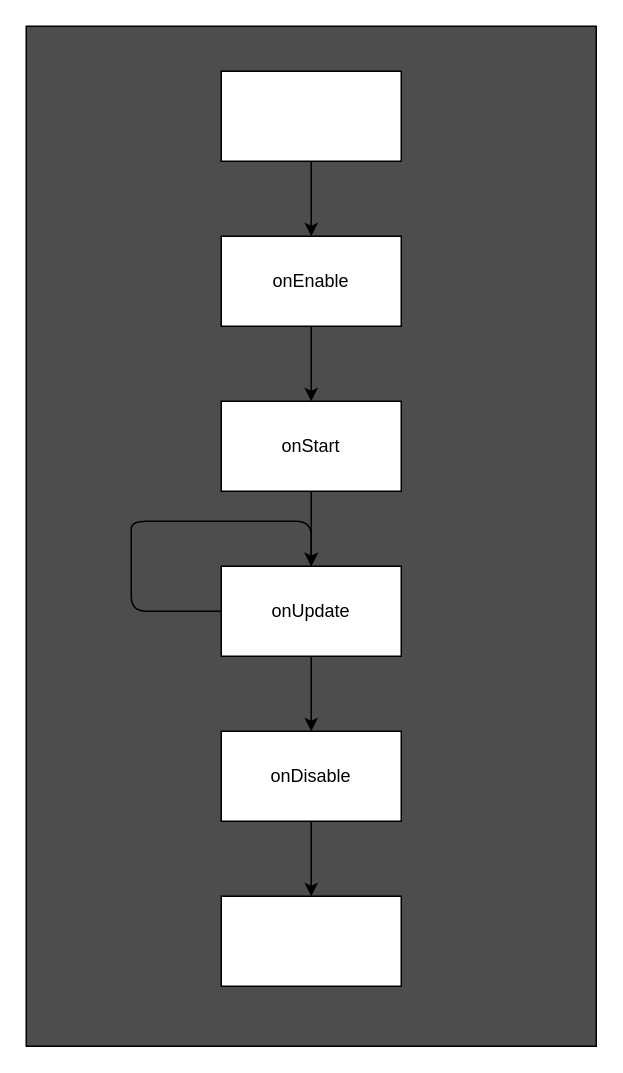
This 623x1073 diagram has some shape labels left out. The box of each missing label's shape, as (x1, y1, x2, y2) in pixels:
onAwake: (220, 70, 401, 161)
onDestroy: (220, 895, 401, 986)
